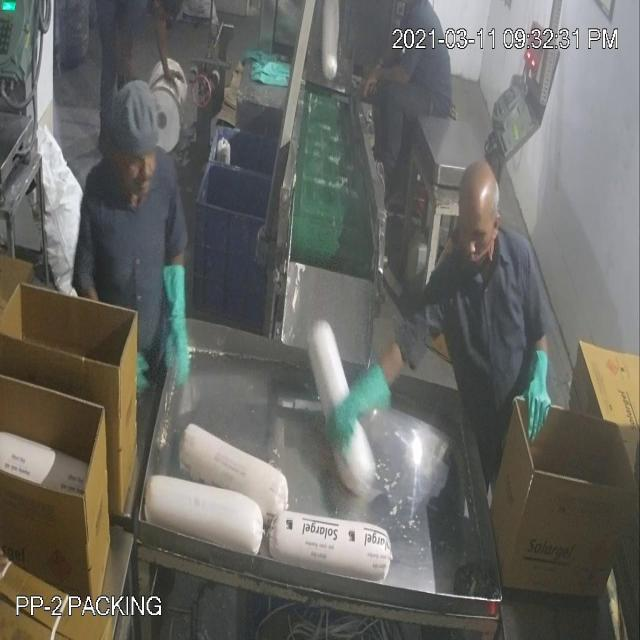gloves: (326, 342, 400, 471), (158, 264, 198, 393), (512, 335, 558, 444)
no-gloves: (150, 11, 186, 98), (361, 53, 409, 98)
